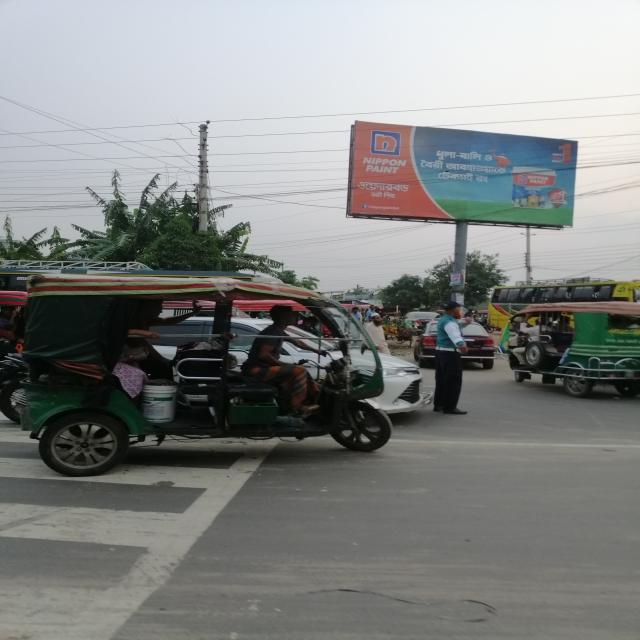Easybike: (1, 268, 420, 469), (498, 301, 640, 394)
traffic-police: (432, 295, 485, 426)
